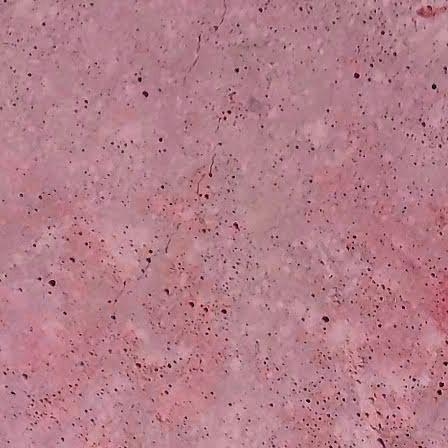crack: (98, 107, 262, 326), (170, 0, 235, 92)
